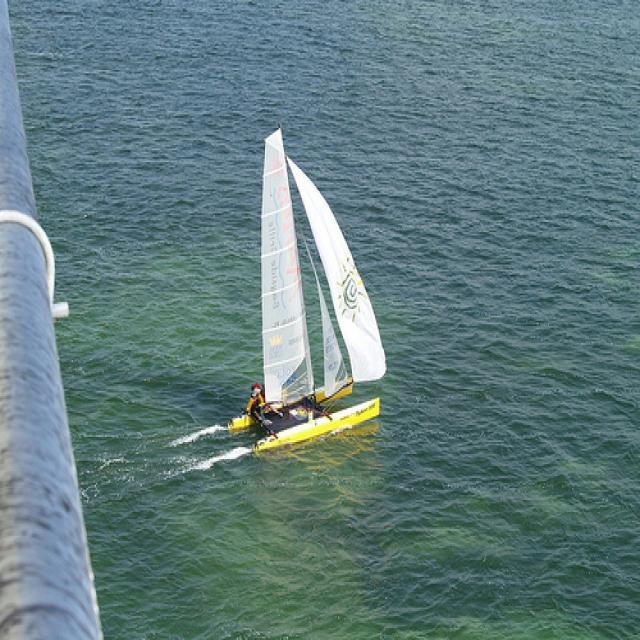Ship: (228, 128, 395, 446)
